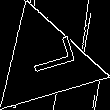L_W: (16, 40, 75, 84)
